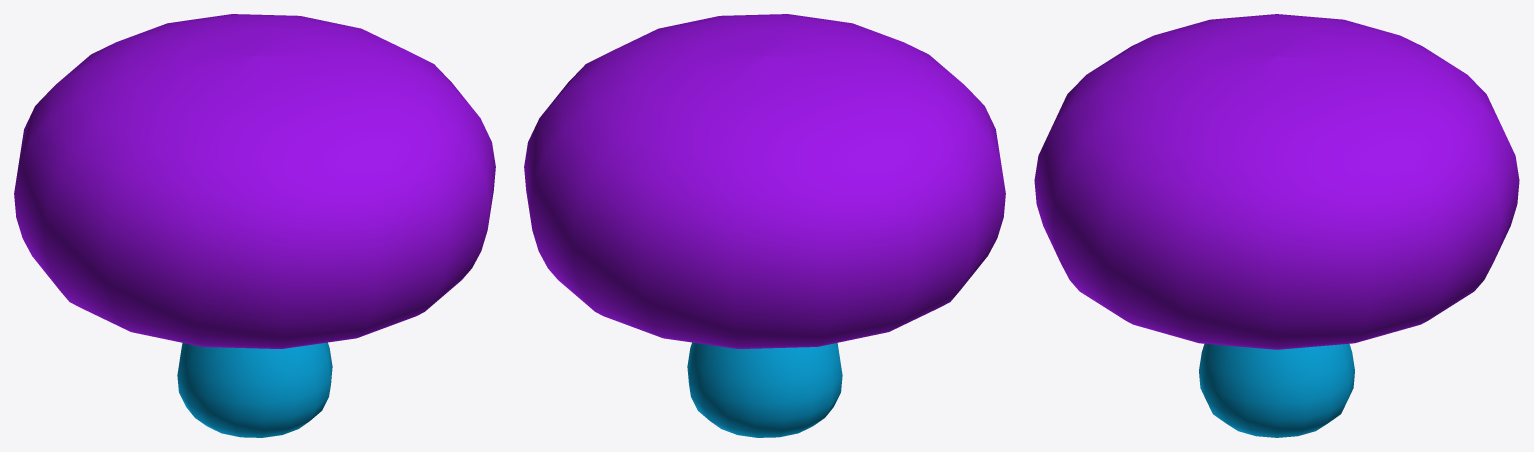
The model's file is Hongo2.fbx.
3 renders of one model, left to right at view 1: azimuth 30°, elevation 25°; view 2: azimuth 150°, elevation 25°; view 3: azimuth 270°, elevation 25°, orthographic.
Parts seen in each view (by area): view 1: Hongo_morado; view 2: Hongo_morado; view 3: Hongo_morado.
Part boxes in pixels (x1=…): Hongo_morado: x1=14, y1=14, x2=495, y2=437; Hongo_morado: x1=524, y1=14, x2=1005, y2=437; Hongo_morado: x1=1034, y1=14, x2=1519, y2=437.
Bounding box in the file's own units: 349 × 292 × 349.
